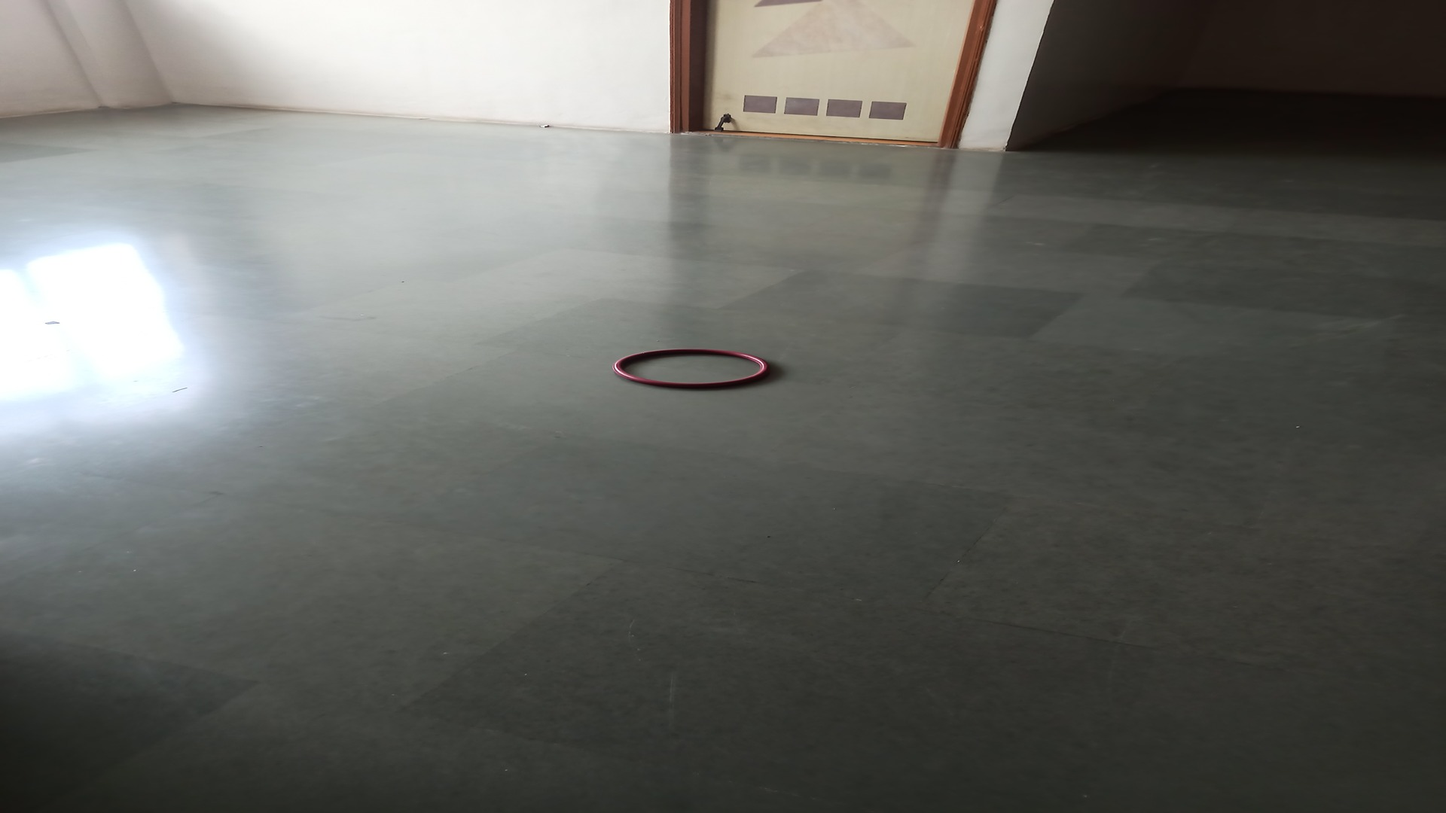Red ring: (614, 346, 775, 395)
